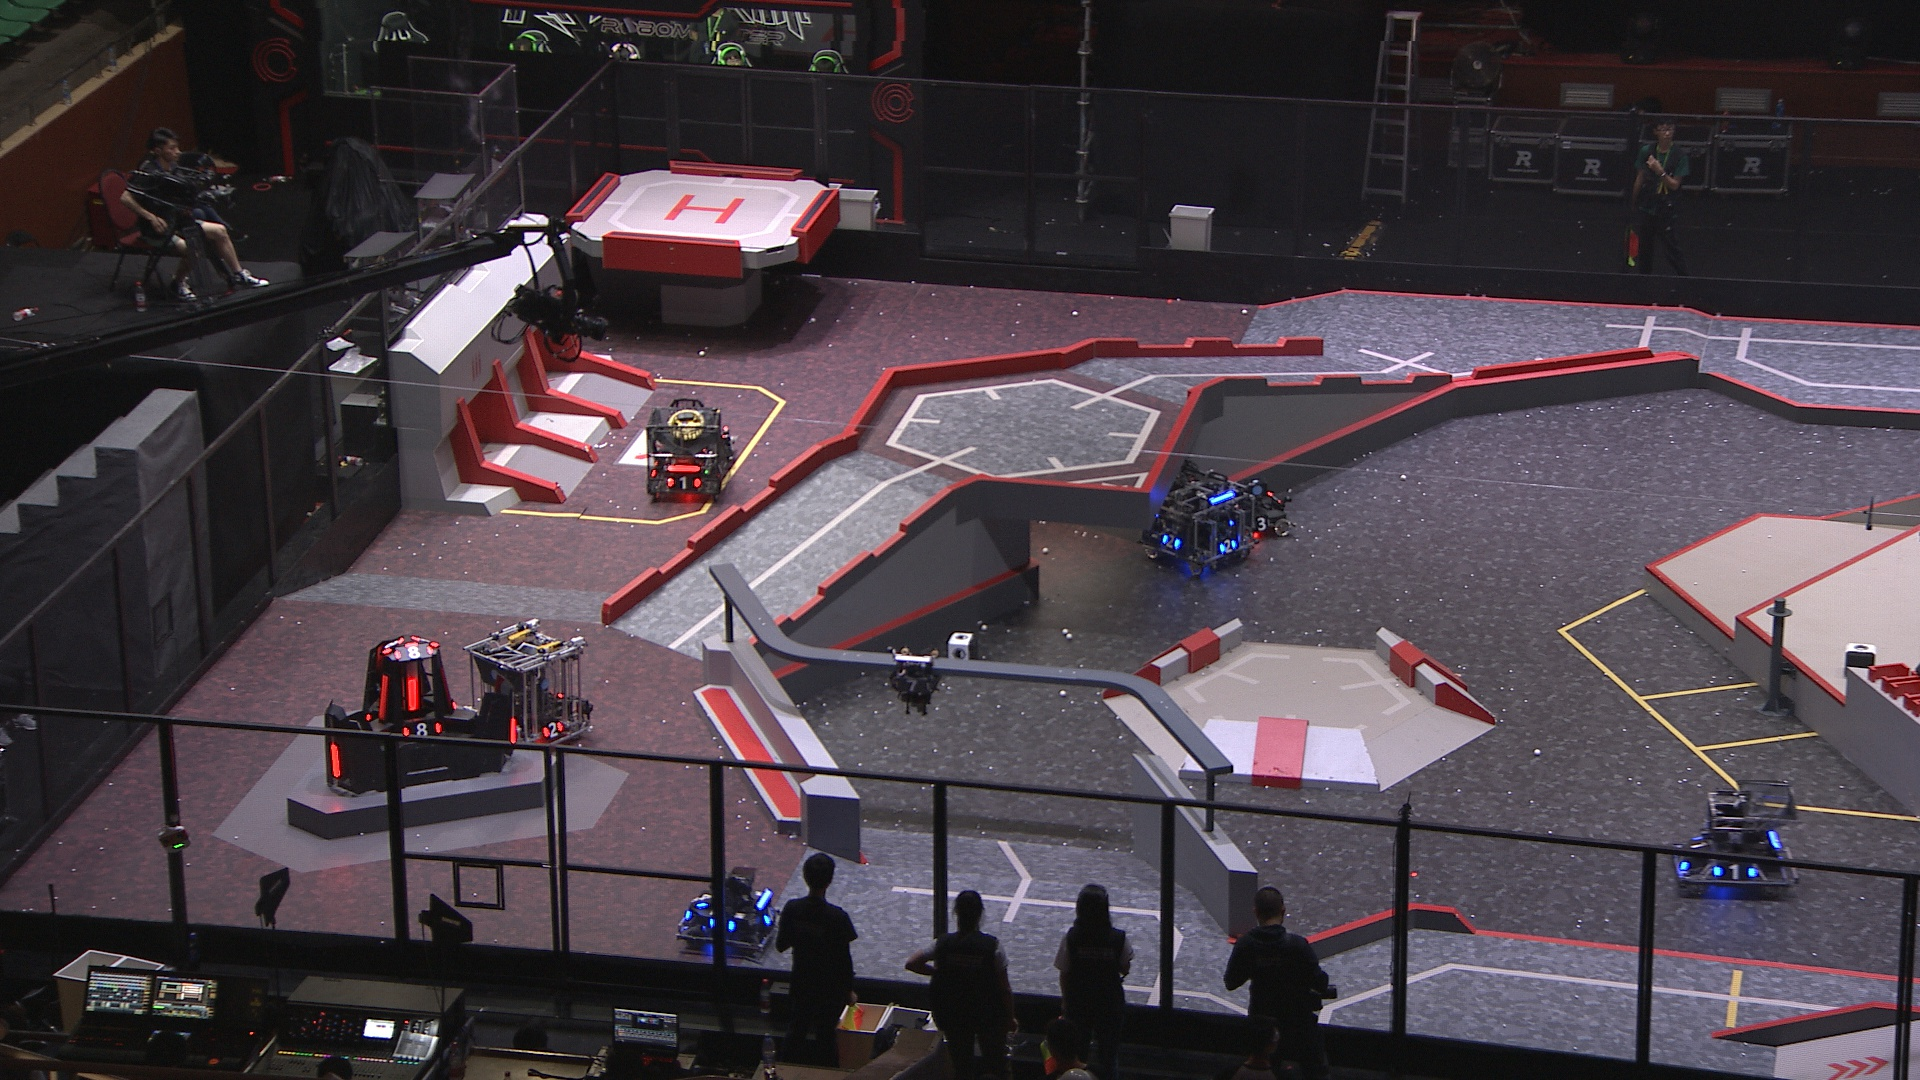armor: (1712, 864, 1756, 882), (404, 675, 423, 716), (895, 676, 931, 698), (392, 644, 434, 661), (375, 674, 389, 721), (400, 723, 439, 740), (665, 475, 702, 491), (328, 741, 342, 782), (542, 719, 564, 737), (1162, 529, 1182, 549), (385, 636, 405, 655), (1691, 833, 1709, 855), (1249, 517, 1275, 531), (698, 889, 713, 910), (1218, 538, 1238, 553), (508, 717, 517, 746), (765, 905, 775, 930)
base: (320, 632, 520, 794)
car: (463, 622, 593, 750), (1671, 778, 1803, 894), (1138, 455, 1255, 579), (676, 862, 785, 959), (638, 400, 733, 498), (1221, 472, 1298, 543), (670, 400, 749, 465)
watcher: (887, 646, 945, 716)
